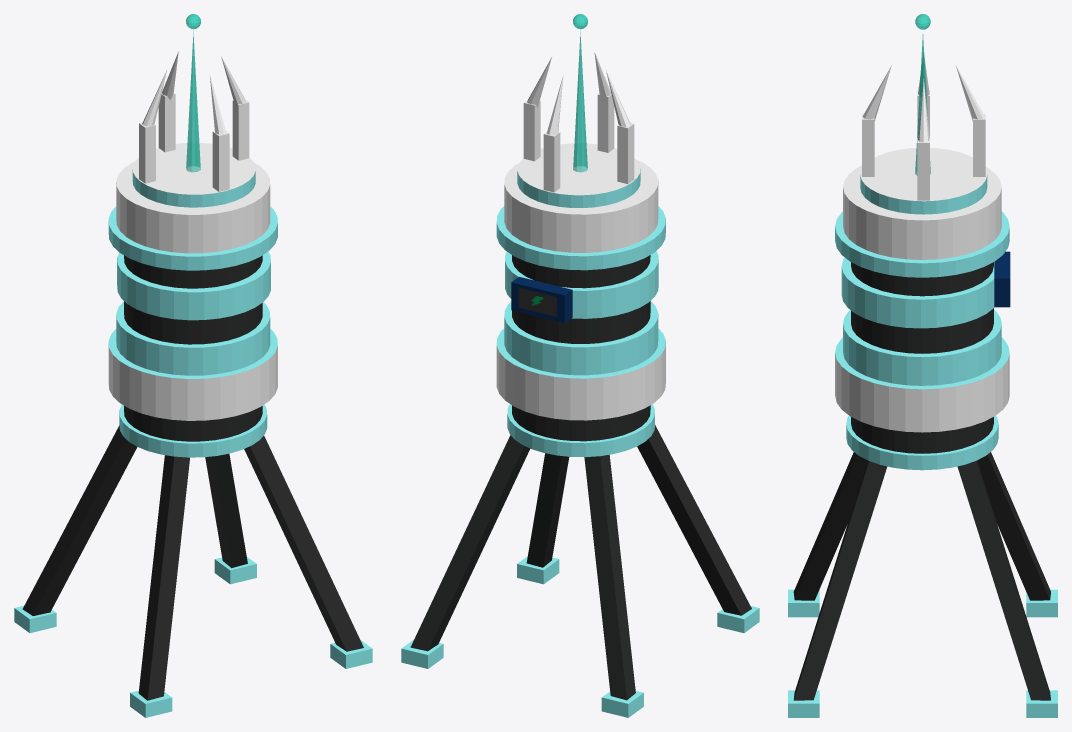
File: core.fbx
3 views of the same model, side by side, from view 1: azimuth 30°, elevation 25°; view 2: azimuth 150°, elevation 25°; view 3: azimuth 270°, elevation 25° (orthographic). The views are drawn at different scales.
Parts seen in each view (by area): view 1: Cube.028; view 2: Cube.028, Cube.026; view 3: Cube.028, Cube.026.
Boxes of the visible parts, bbox=[...] form: Cube.028: bbox=[14, 14, 372, 717]; Cube.028: bbox=[401, 14, 759, 717]; Cube.026: bbox=[511, 277, 572, 323]; Cube.028: bbox=[788, 14, 1057, 717]; Cube.026: bbox=[994, 251, 1010, 307].
Size of the model in its own units: 340 by 900 by 340.
5 materials, 1 textured.
